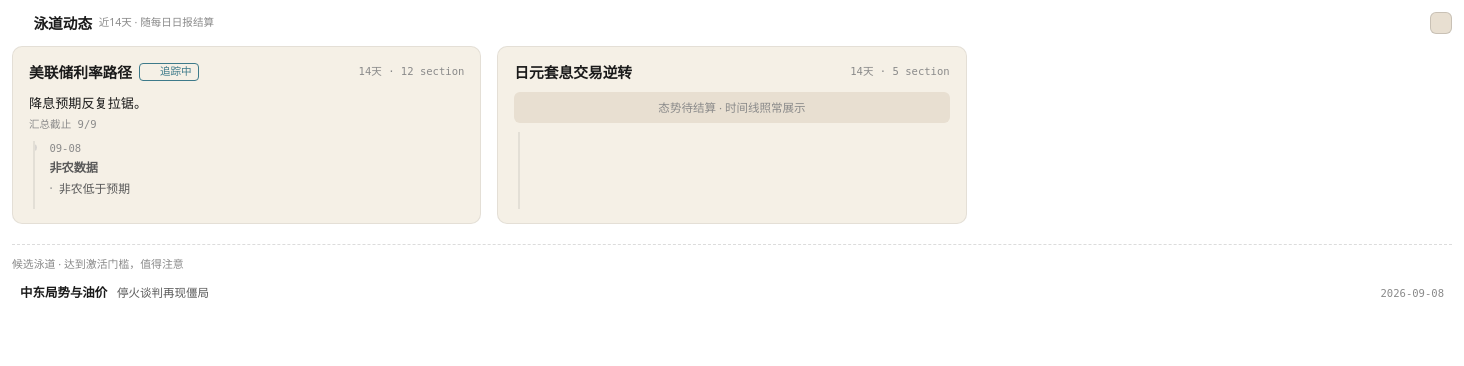
Test: LaneDynamicsPanel — error / retry › 刷新失败但保留旧数据：顶部刷新提示条 + 旧内容仍在
This screenshot has width=1464, height=366.
Click the button with test id "lane-refresh" at (1441, 23), box [1430,12,1452,34]
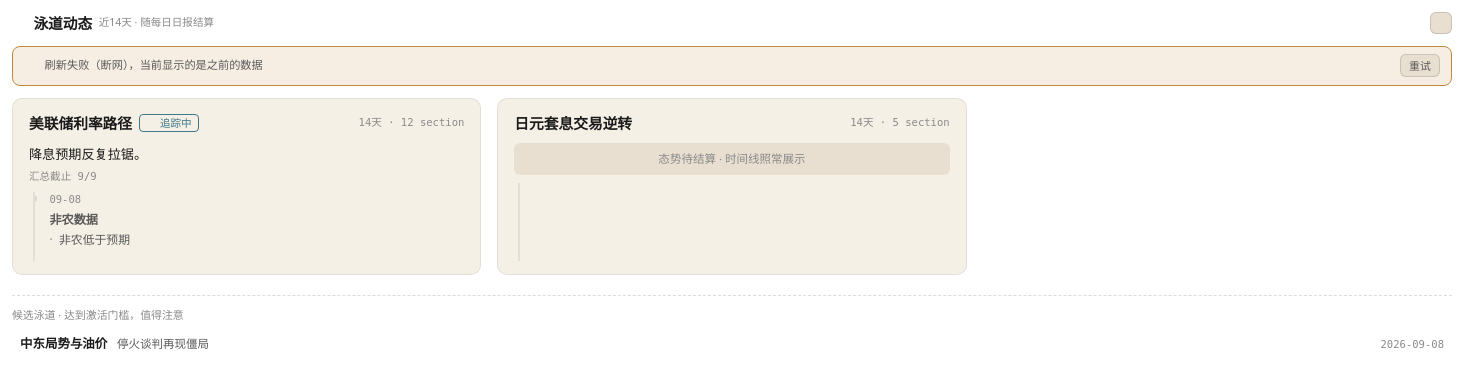
Check: the number of buttons with test id "lane-card" is 2, box [12,98,481,275]; [497,98,967,275]
Check: the element with test id "lane-stale-notice" is shown, box [12,46,1452,86]
Check: the element with test id "lane-stale-notice" shows "断网", box [45,57,263,72]
